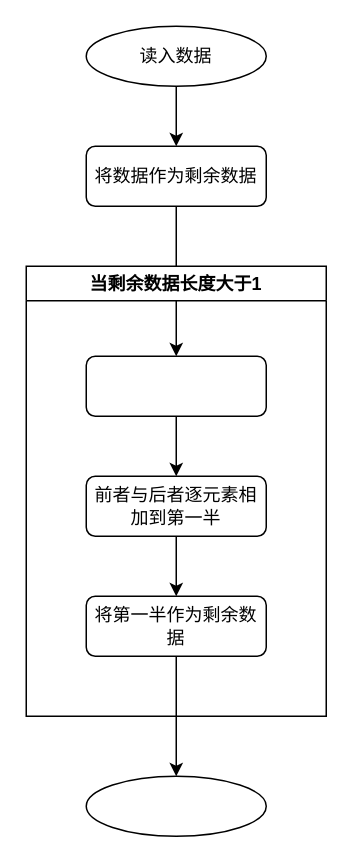
This 353x863 diagram has some shape labels left out. Here are the shapes that lost their labels. From the top down, the centre of each, then its label:
At (175,385): "拆分数据为两半".
At (175,805): "输出校验和".
